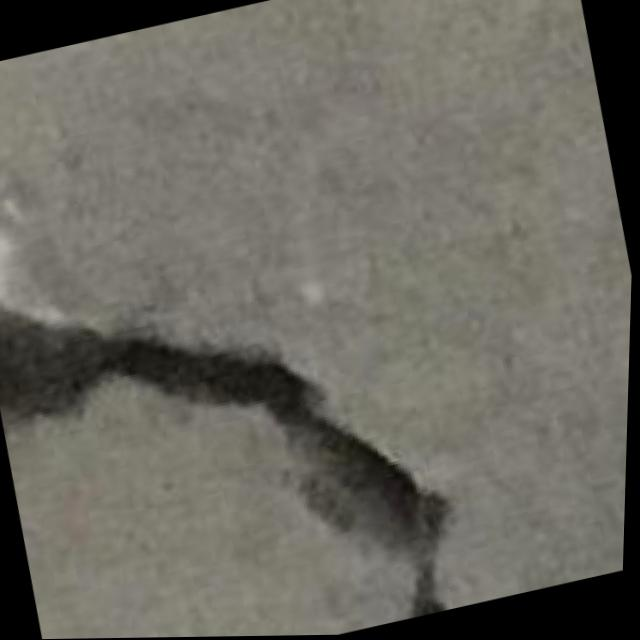Crack: (0, 178, 508, 634)
